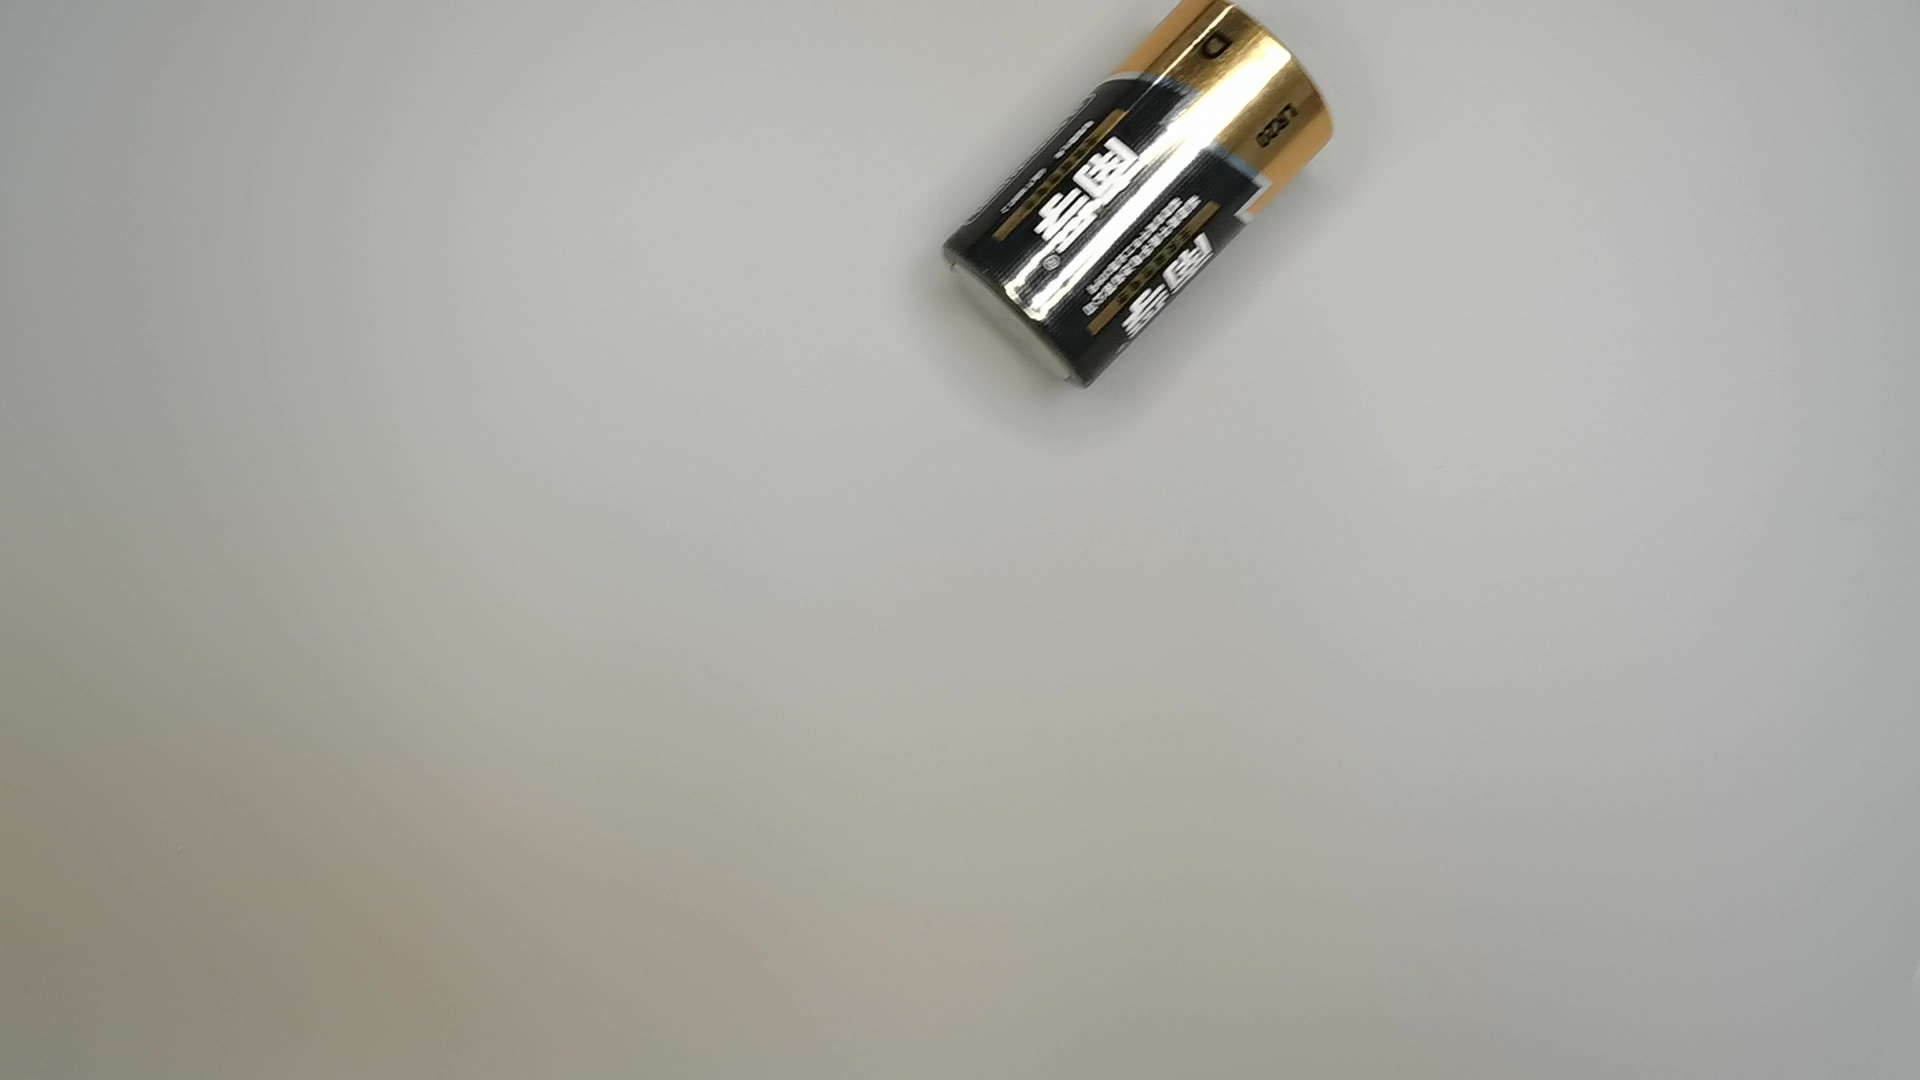battery: (938, 1, 1353, 402)
